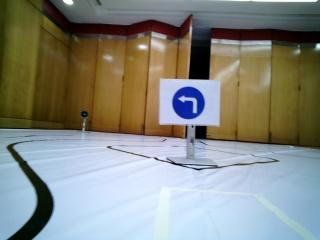left: (169, 82, 208, 126)
